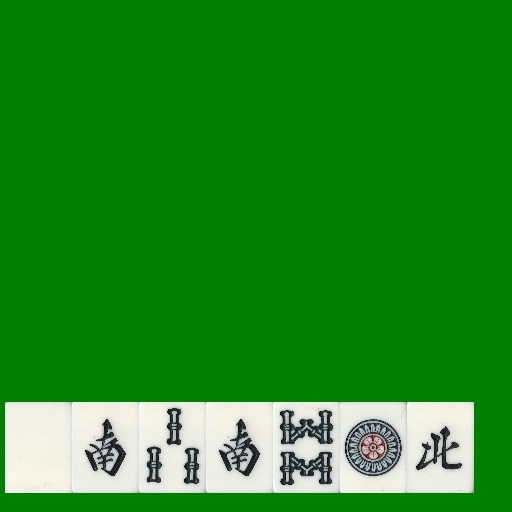1p: (340, 402, 407, 493)
3s: (139, 402, 206, 493)
8s: (273, 402, 340, 493)
north: (407, 402, 474, 493)
south: (72, 402, 139, 493), (206, 402, 273, 493)
white: (5, 402, 72, 493)
